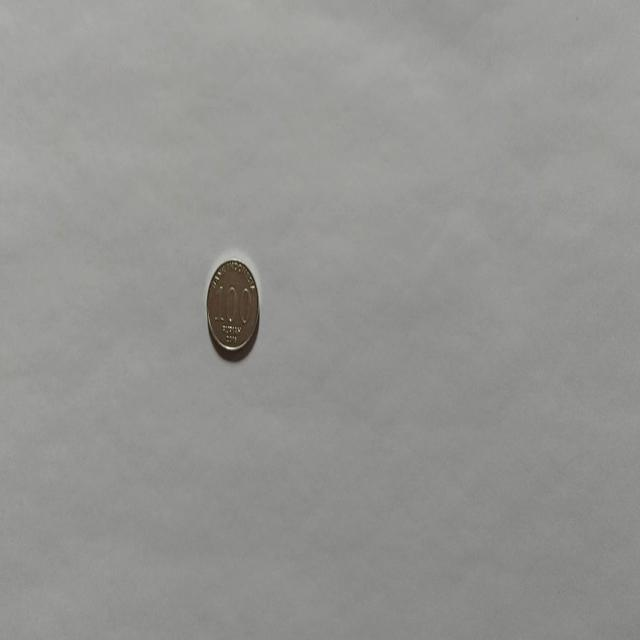seratus rupiah: (204, 256, 260, 358)
